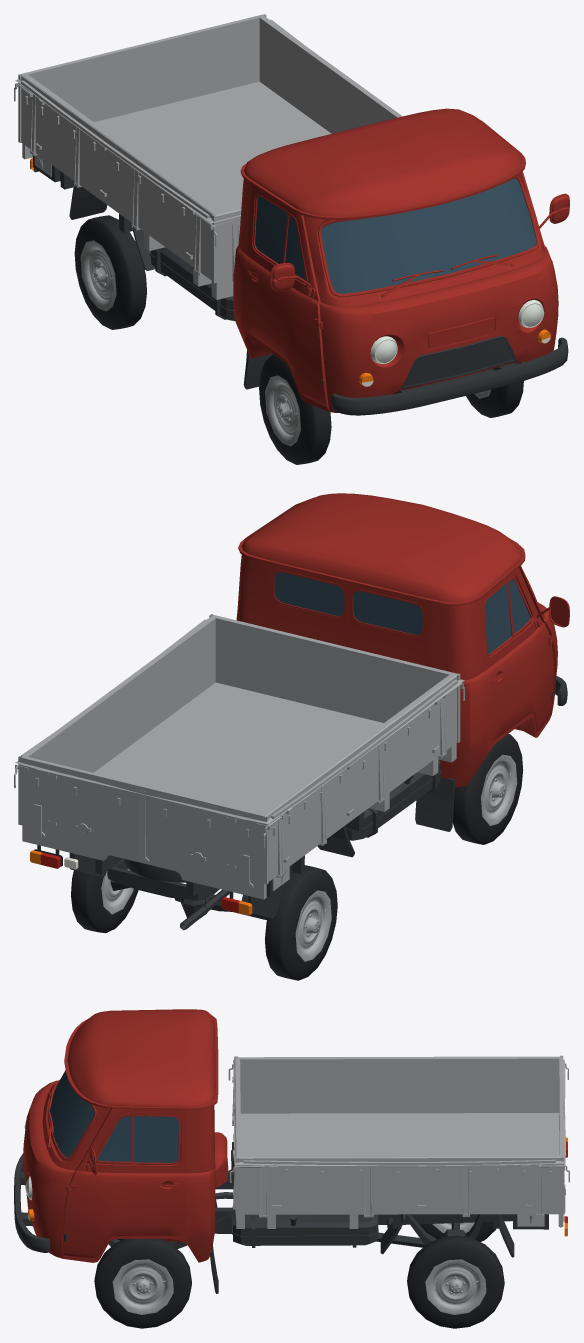
The model's file is uaz330364.glb.
3 renders of one model, top to bottom at view 1: azimuth 30°, elevation 25°; view 2: azimuth 150°, elevation 25°; view 3: azimuth 270°, elevation 25°, orthographic. The views are drawn at different scales.
Visible parts, largest first — view 1: paint, bed, glass, trim, wheel_rr, wheel_fr, wheel_fl, headlights; view 2: bed, paint, trim, glass, wheel_rr, wheel_fr, wheel_rl; view 3: bed, paint, trim, wheel_rl, wheel_fl, glass, wheel_rr.
Part boxes in pixels (left/top/right/bottom): paint: left=233, top=108, right=569, bottom=412; bed: left=14, top=14, right=402, bottom=299; glass: left=255, top=178, right=536, bottom=293; trim: left=32, top=155, right=568, bottom=415; wheel_rr: left=74, top=215, right=146, bottom=329; wheel_fr: left=259, top=354, right=331, bottom=464; wheel_fl: left=466, top=362, right=523, bottom=417; headlights: left=362, top=299, right=550, bottom=386; bed: left=14, top=614, right=464, bottom=899; paint: left=236, top=493, right=569, bottom=787; trim: left=34, top=676, right=567, bottom=930; glass: left=274, top=572, right=530, bottom=653; wheel_rr: left=265, top=865, right=337, bottom=980; wheel_fr: left=453, top=734, right=523, bottom=844; wheel_rl: left=71, top=869, right=138, bottom=933; bed: left=228, top=1055, right=569, bottom=1228; paint: left=23, top=1009, right=228, bottom=1262; trim: left=14, top=1141, right=561, bottom=1293; wheel_rl: left=407, top=1235, right=504, bottom=1328; wheel_fl: left=94, top=1239, right=191, bottom=1328; glass: left=49, top=1070, right=178, bottom=1162; wheel_rr: left=419, top=1221, right=495, bottom=1241.
Size of the model in its own units: 2.72 by 2.49 by 5.15.
